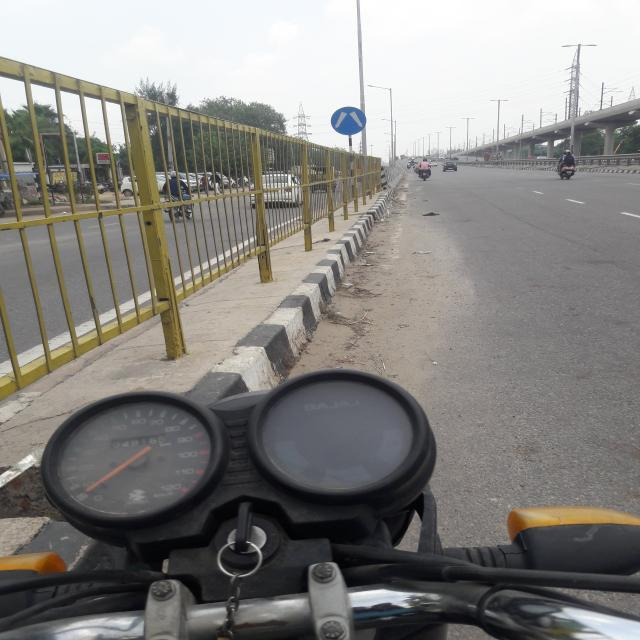pass either side: (330, 106, 366, 135)
